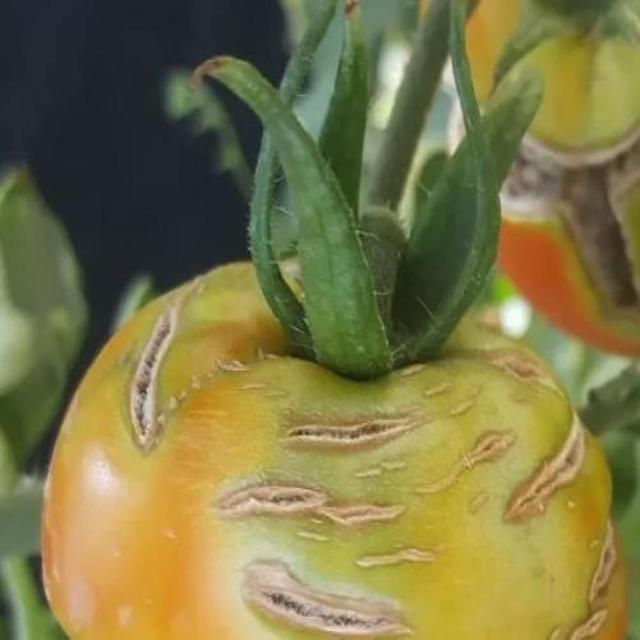Cracking Fruit: (45, 23, 399, 414)
